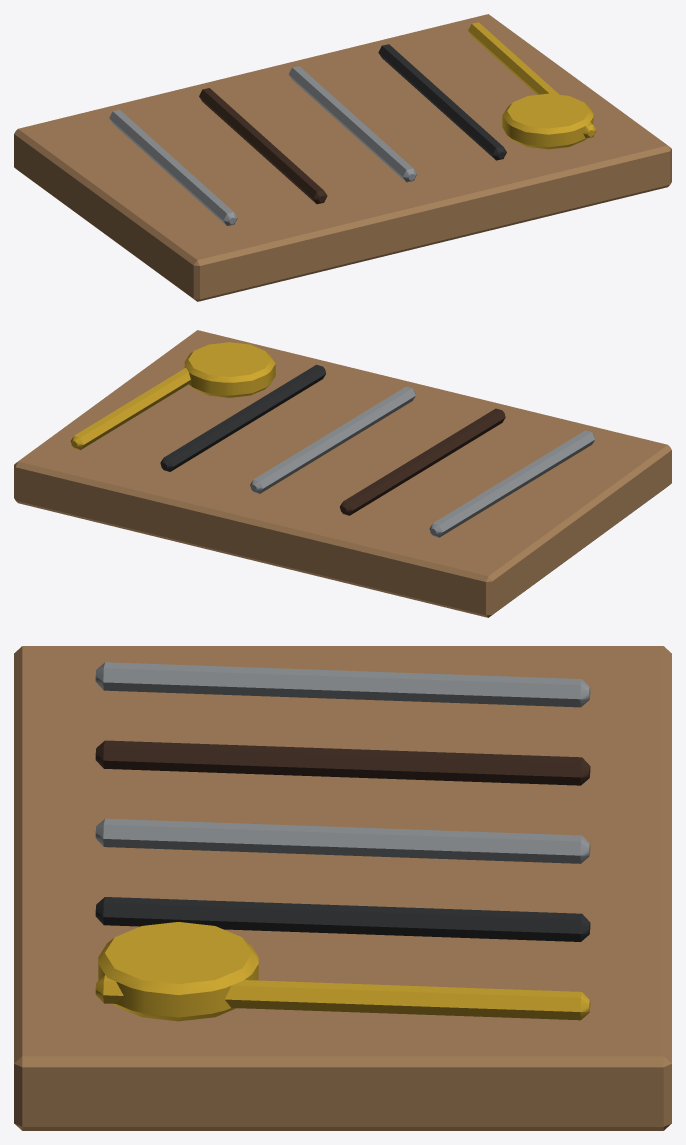
File: prop_tray_tools.glb
3 renders of one model, top to bottom at view 1: azimuth 30°, elevation 25°; view 2: azimuth 150°, elevation 25°; view 3: azimuth 270°, elevation 25°, orthographic. The views are drawn at different scales.
Visible parts, largest first — view 1: Tray; view 2: Tray; view 3: Tray.
Part boxes in pixels (x1,y1,x2,y2): Tray: (14,14,671,301); Tray: (14,330,671,617); Tray: (14,646,671,1130).
Size of the model in its own units: 0.24 by 0.03 by 0.16.
